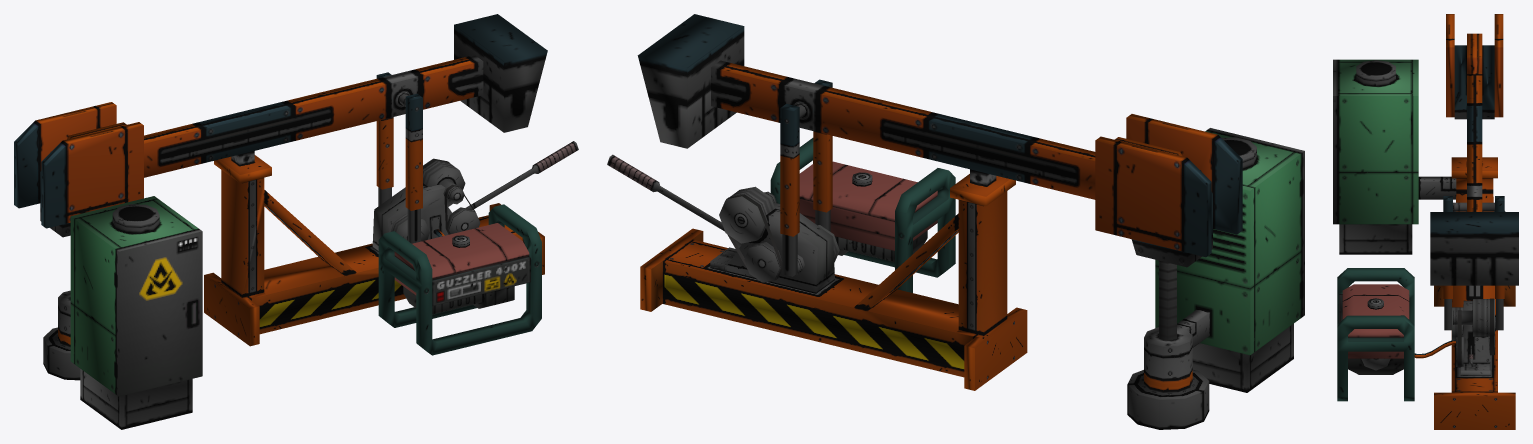
Rendered from mod_env_industrial_pump_station01.fbx.
3 renders of one model, left to right at view 1: azimuth 30°, elevation 25°; view 2: azimuth 150°, elevation 25°; view 3: azimuth 270°, elevation 25°, orthographic. The views are drawn at different scales.
Visible parts, largest first — view 1: mod_prop_pump_station01; view 2: mod_prop_pump_station01; view 3: mod_prop_pump_station01.
Part boxes in pixels (<box>): mod_prop_pump_station01: <box>14,14,578,429</box>; mod_prop_pump_station01: <box>607,14,1304,429</box>; mod_prop_pump_station01: <box>1333,14,1518,429</box>.
Size of the model in its own units: 478 by 201 by 159.
